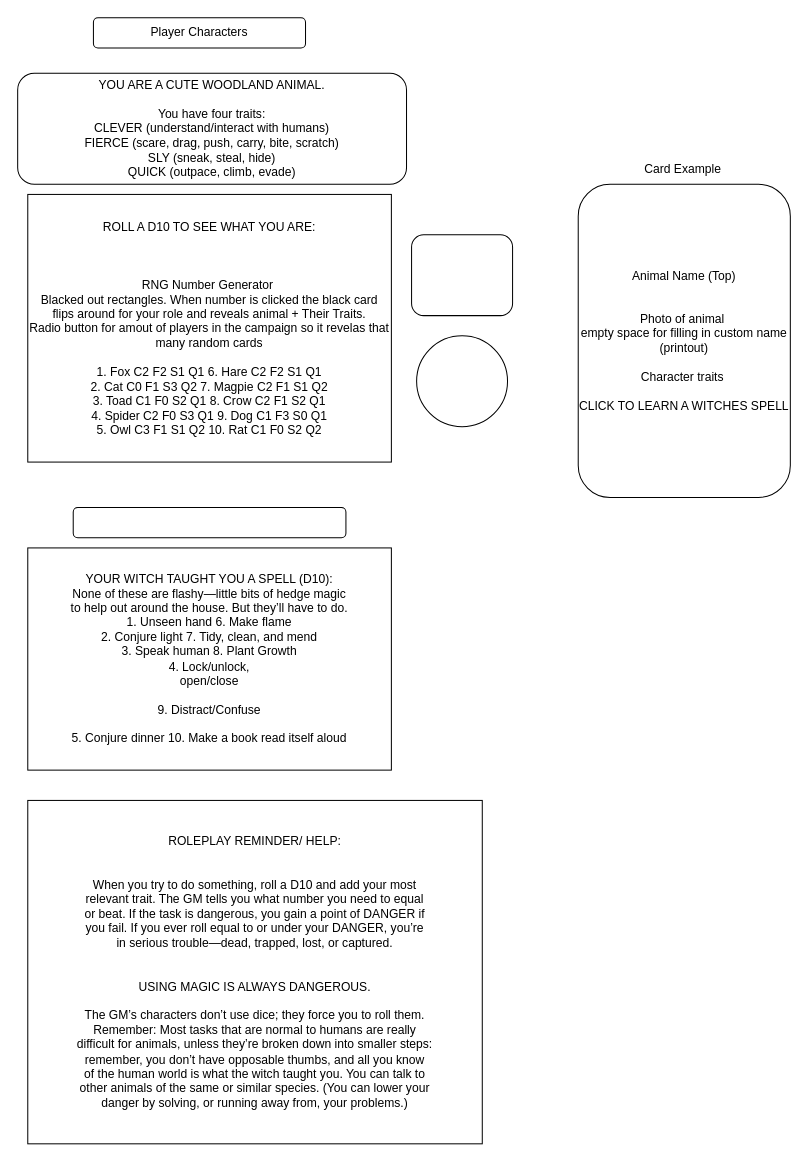
This 808x1162 diagram has some shape labels left out. Each missing label, with the centre of its shape:
Attaches a Spell to each character from above: [209,522]
Character Cards for each animal flippable or hover for Traits: [462,275]
Viewed like a locked character in MK: [462,381]
